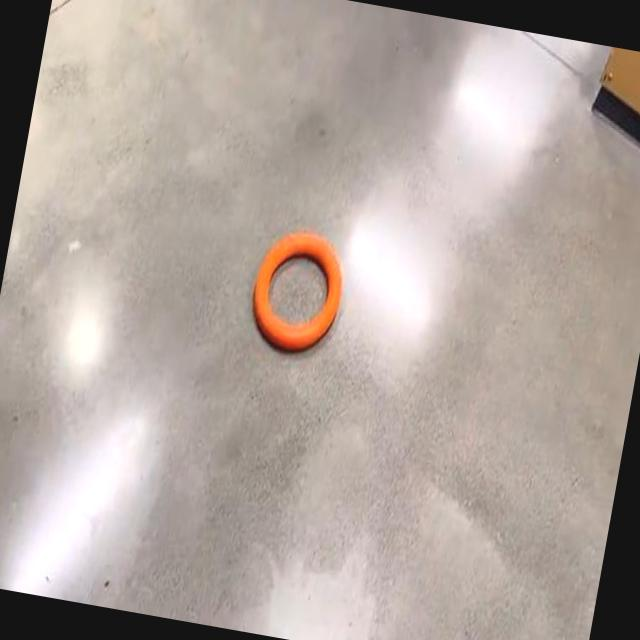note: (253, 233, 342, 350)
